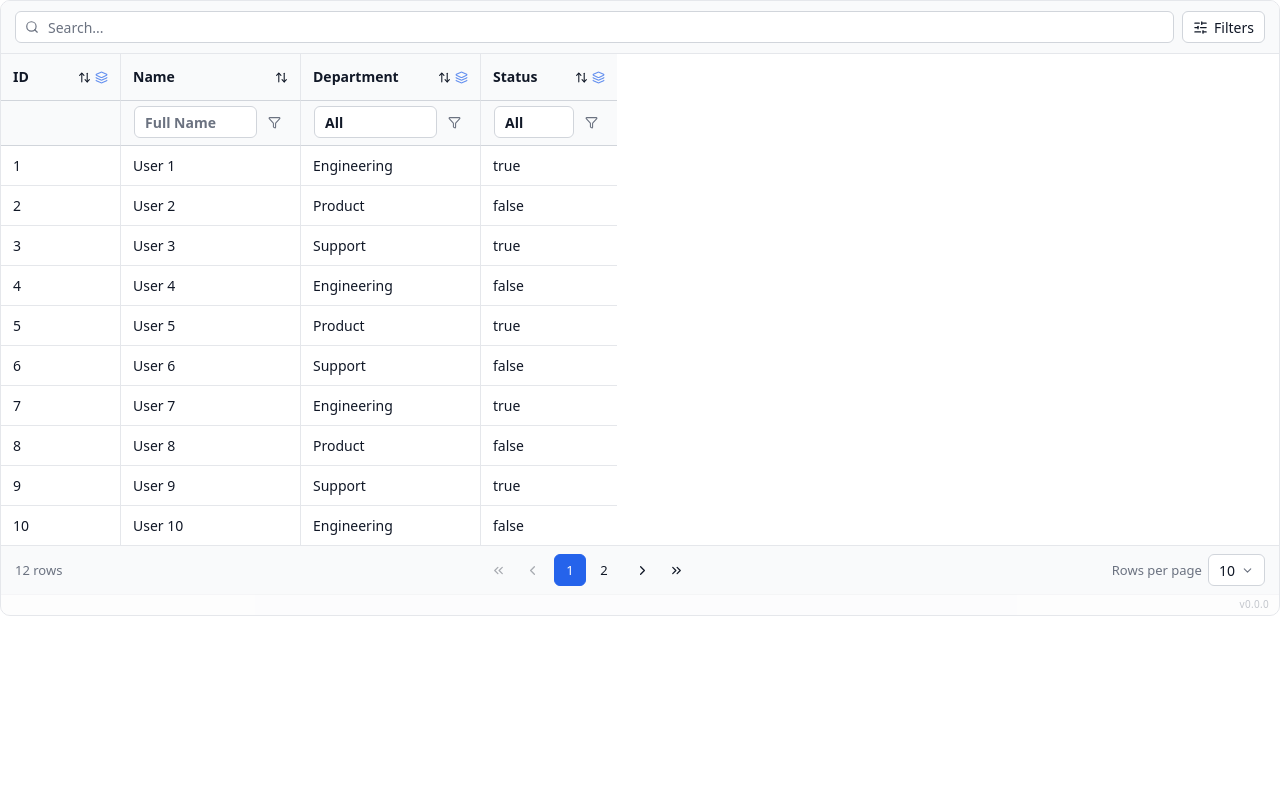
DataTable - pagination › search and filter interactions with pagination remain stable
Type "User 11" into the search field labelled "Search".
click(595, 27); type("User 11")  # box [15,11,1174,43]
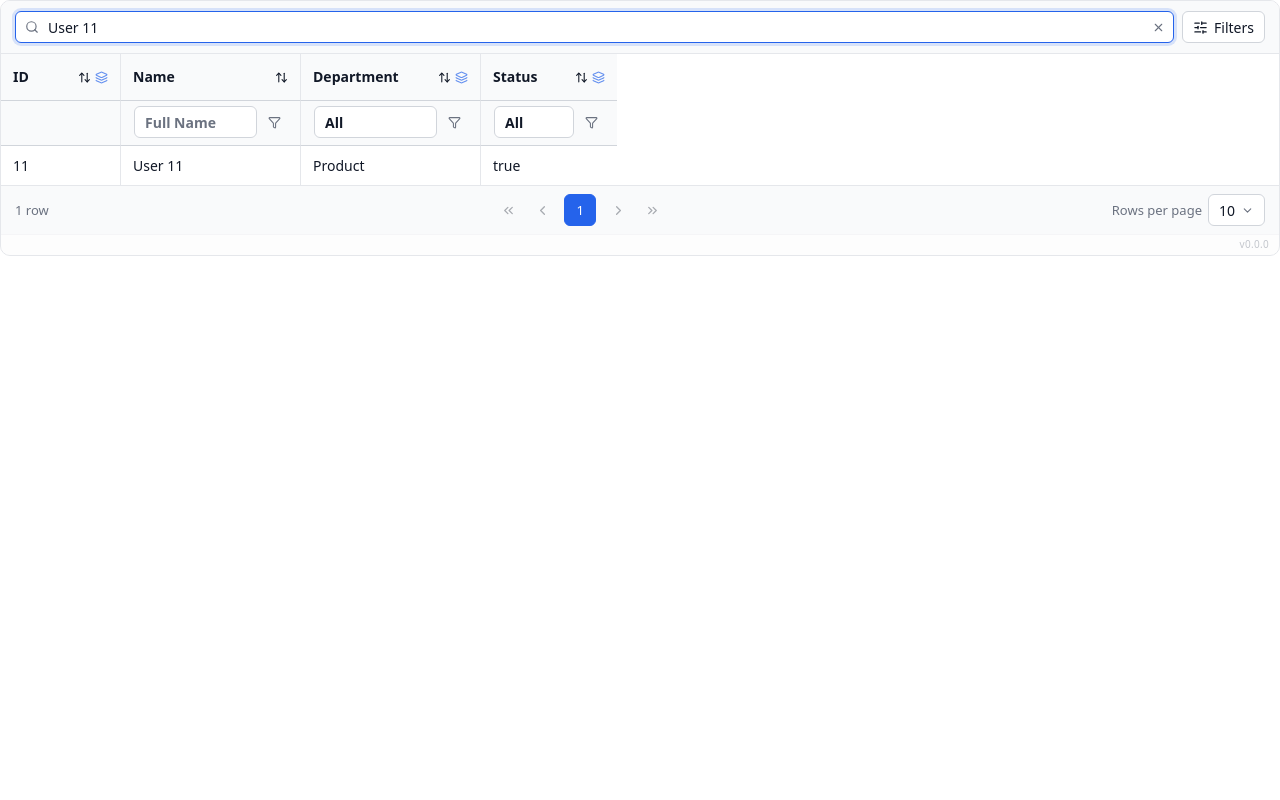
Check: the text "User 11" is shown, box [121,146,301,185]
Clear the search field named "Search" at (595, 27), box [15,11,1174,43]
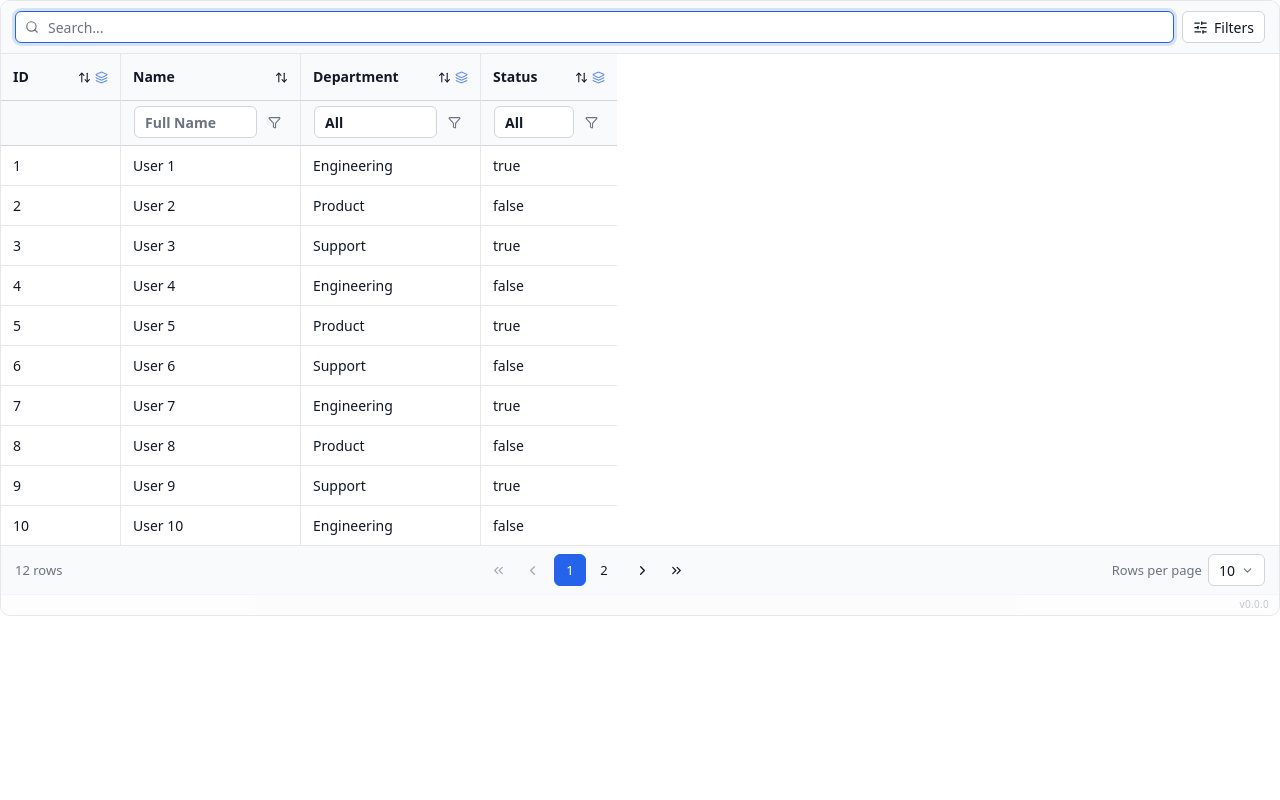
Click the button with aria-label "Filter Department".
click(376, 122)  # box [314,106,437,138]
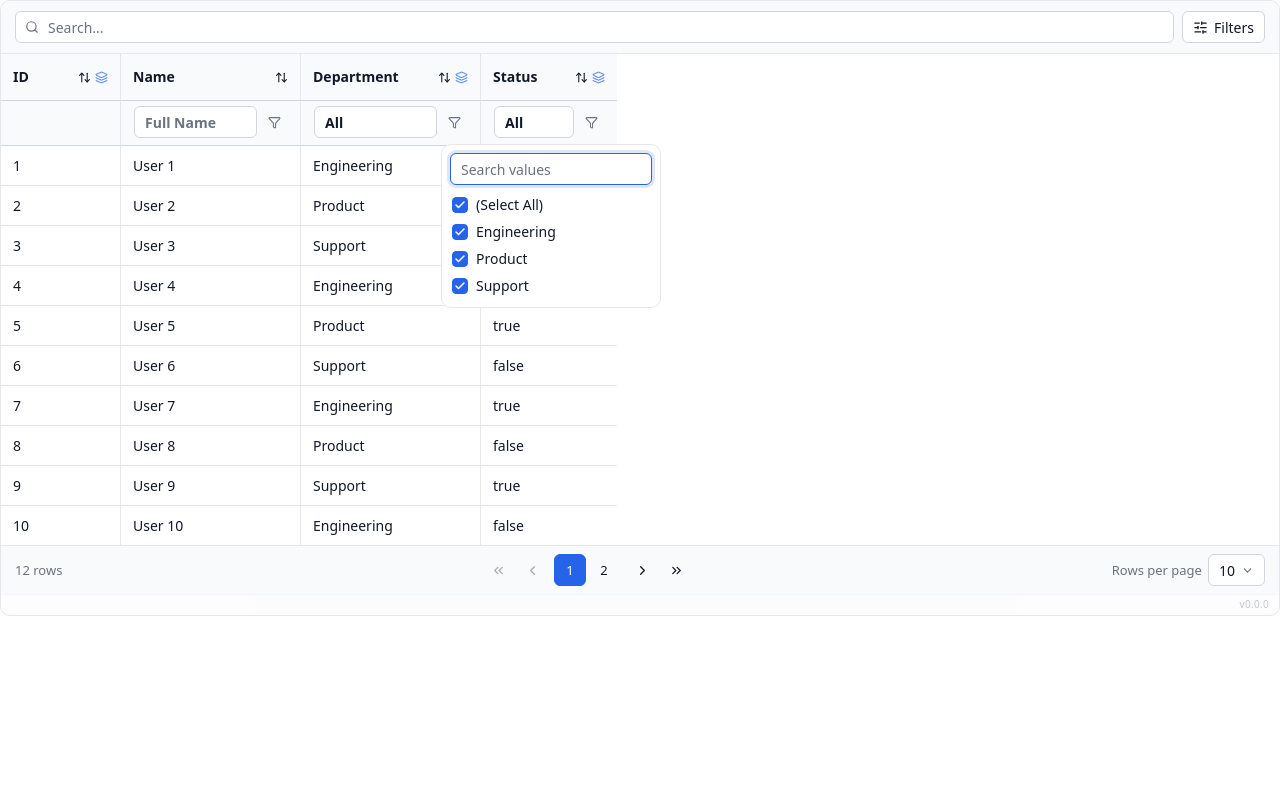
Click the checkbox named "Select all Department values".
click(460, 204)  # box [452,196,468,212]
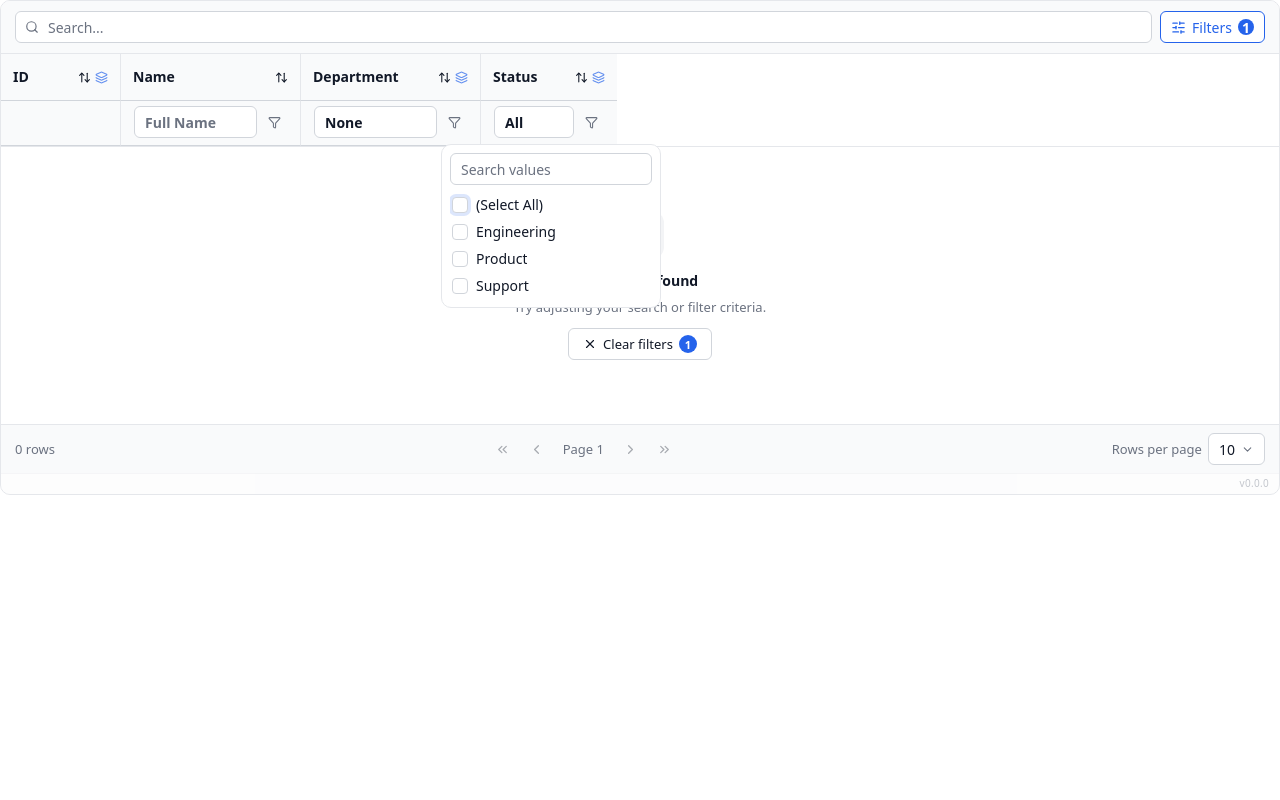
Click the checkbox named "Product".
click(460, 258)  # box [452,250,468,266]
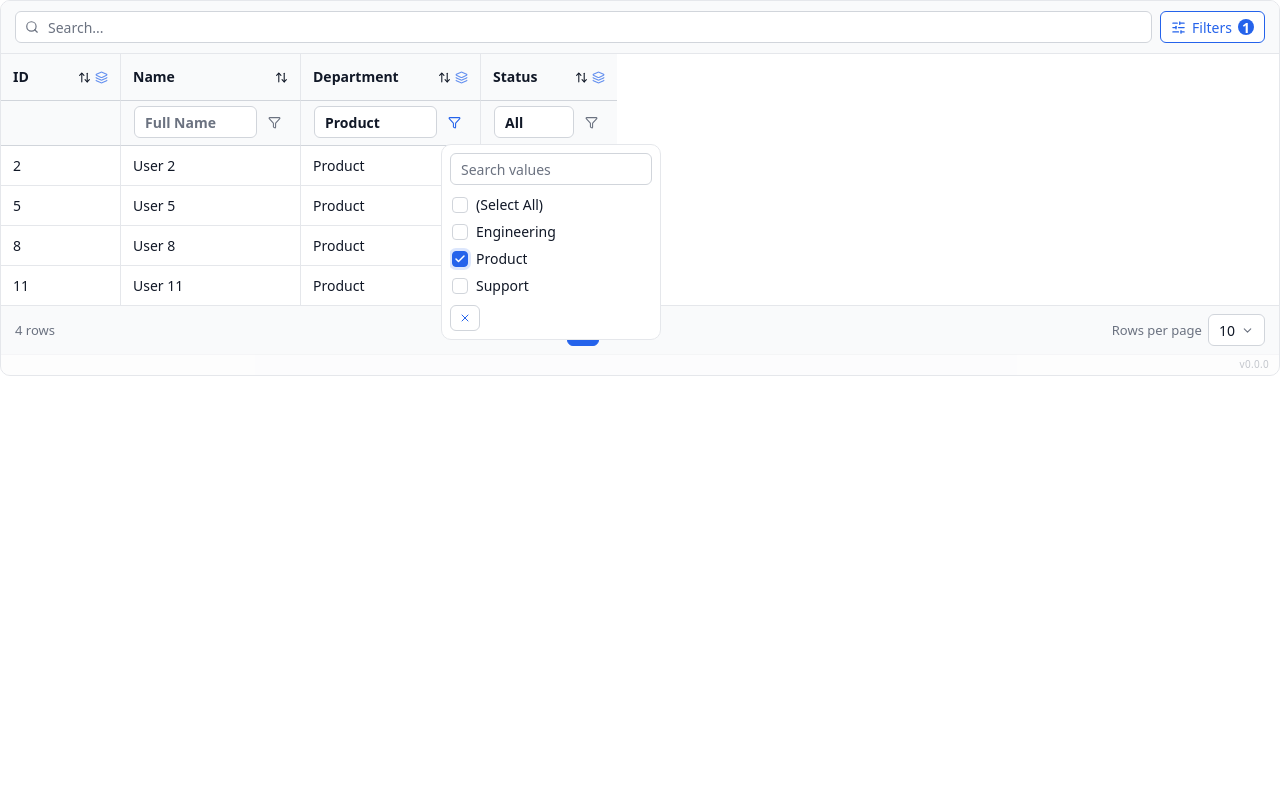
Check: the text "User 2" is shown, box [121,146,301,186]
